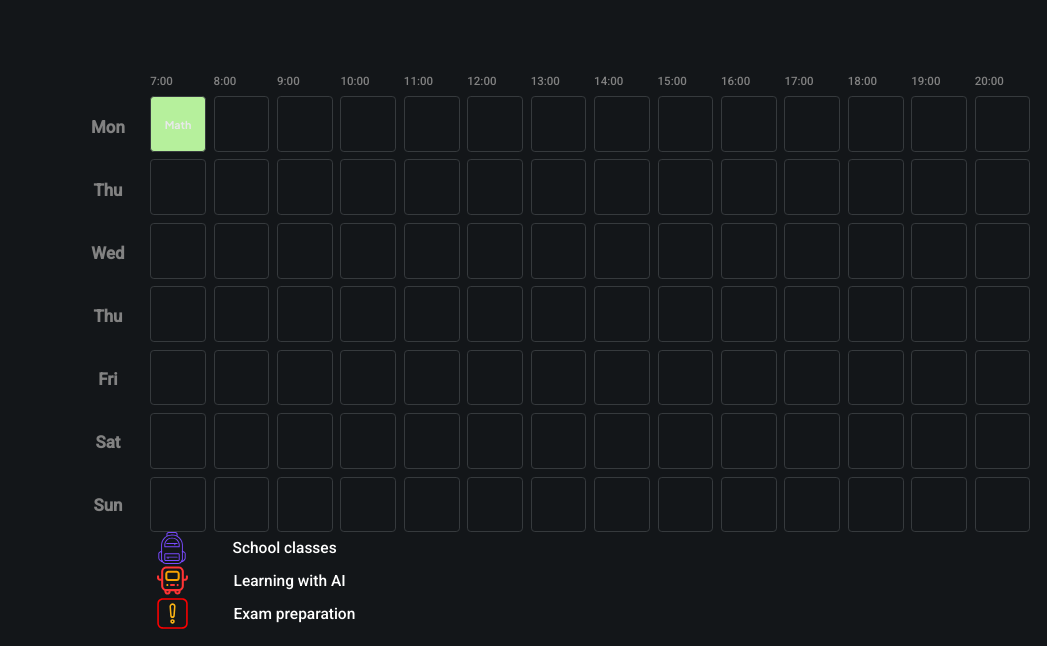
it: Schedule › non-admin CAN click a rect only if there is an assignment at that rect
Expected: the text "Math" is shown, [165,117,191,130]
Click the element with test id "schedule-rect-0" at coordinates (178, 124), box [150,96,206,152]
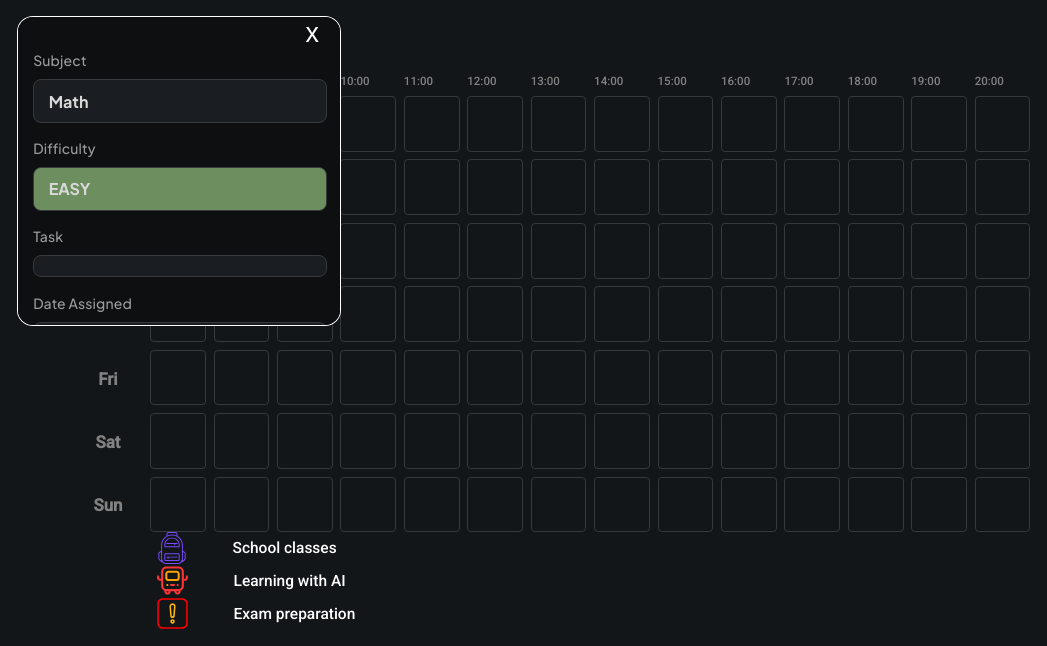
Result: the element with test id "assignment-popup" is shown at [17,16,341,326]
